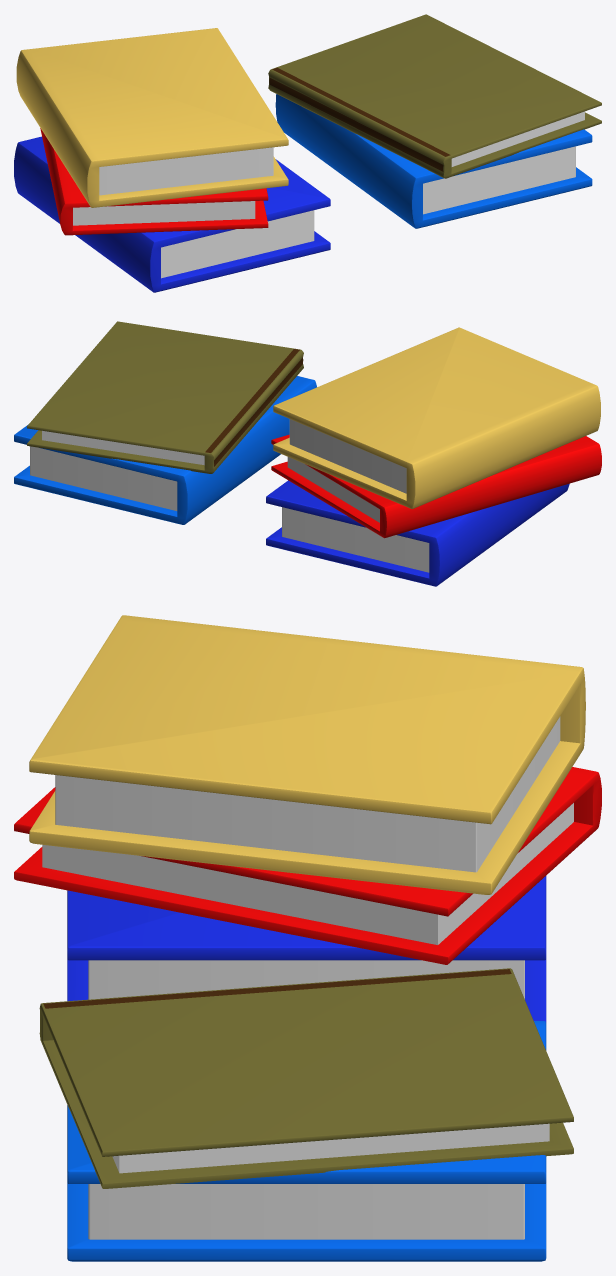
Rendered from Libros.fbx.
The picture shows the model from 3 angles, top to bottom: view 1: azimuth 30°, elevation 25°; view 2: azimuth 150°, elevation 25°; view 3: azimuth 270°, elevation 25°; orthographic projection. The views are drawn at different scales.
Parts seen in each view (by area): view 1: Libr03, Libro5, Libro4, Libro, Libro2; view 2: Libr03, Libro5, Libro, Libro4, Libro2; view 3: Libr03, Libro5, Libro4, Libro2, Libro.
Boxes of the visible parts, <box> form: Libr03: <box>16,28,288,207</box>; Libro5: <box>268,14,601,178</box>; Libro4: <box>275,94,592,228</box>; Libro: <box>14,136,330,292</box>; Libro2: <box>40,128,268,235</box>; Libr03: <box>273,327,600,508</box>; Libro5: <box>27,321,303,473</box>; Libro: <box>266,480,569,586</box>; Libro4: <box>14,376,316,524</box>; Libro2: <box>271,434,601,538</box>; Libr03: <box>29,615,585,894</box>; Libro5: <box>39,968,573,1188</box>; Libro4: <box>67,1021,546,1261</box>; Libro2: <box>14,767,601,964</box>; Libro: <box>67,876,546,1022</box>.
Bounding box in the file's own units: 1.49 × 0.362 × 0.8314.
